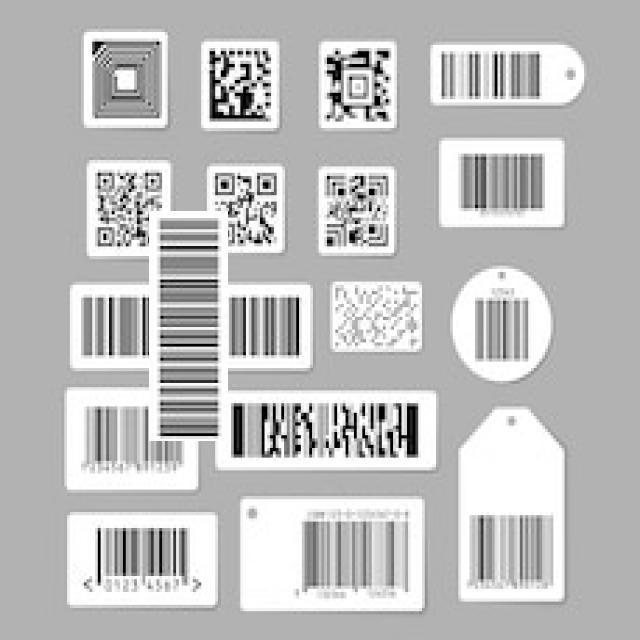Barkod: (111, 249, 266, 404), (226, 394, 434, 472)
